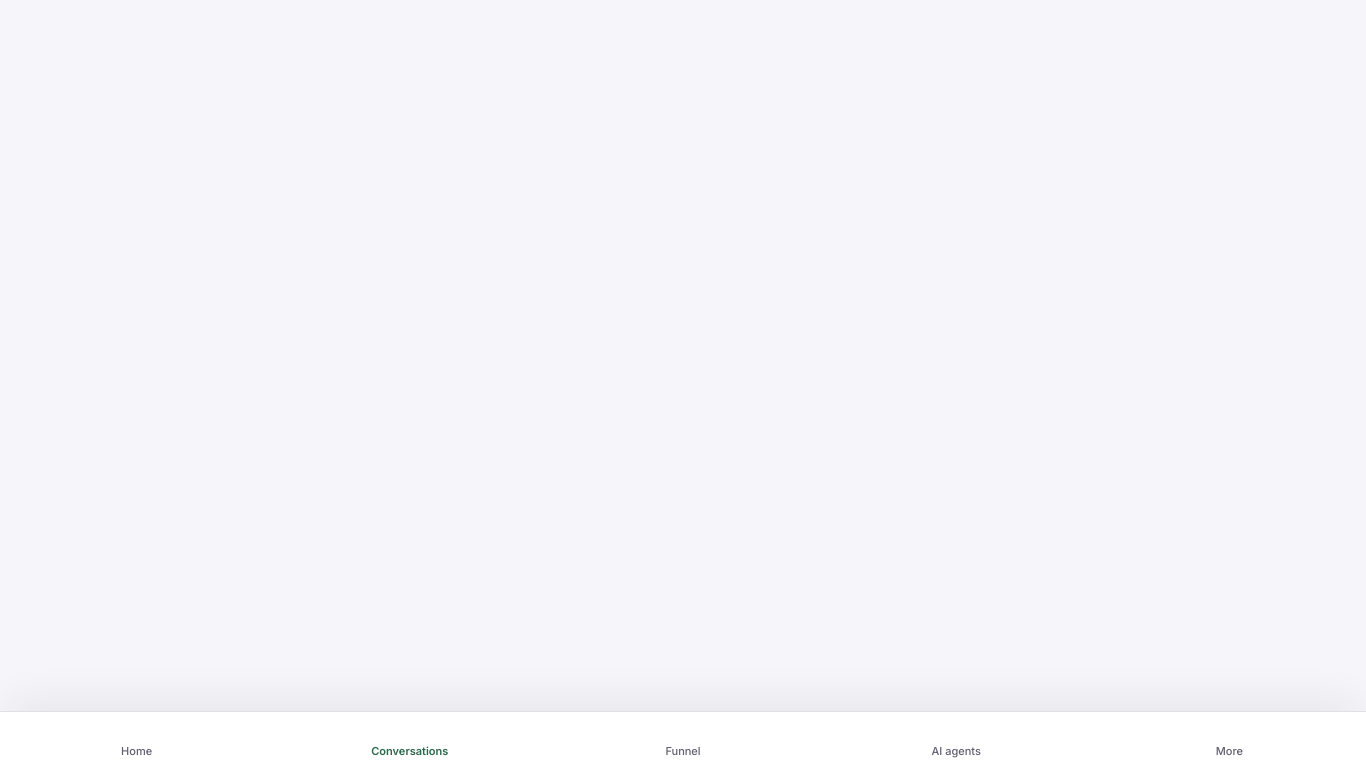
MobileNav › shows the four main tabs, and every section and the booking CTA behind More
Expected: the links read "Home", "Conversations", "Funnel", "AI agents", in this order, [121,744,152,758]; [371,744,448,758]; [665,744,701,758]; [932,744,981,758]
Click the button with aria-label "Open menu": (1229, 751) [1093,712,1365,767]
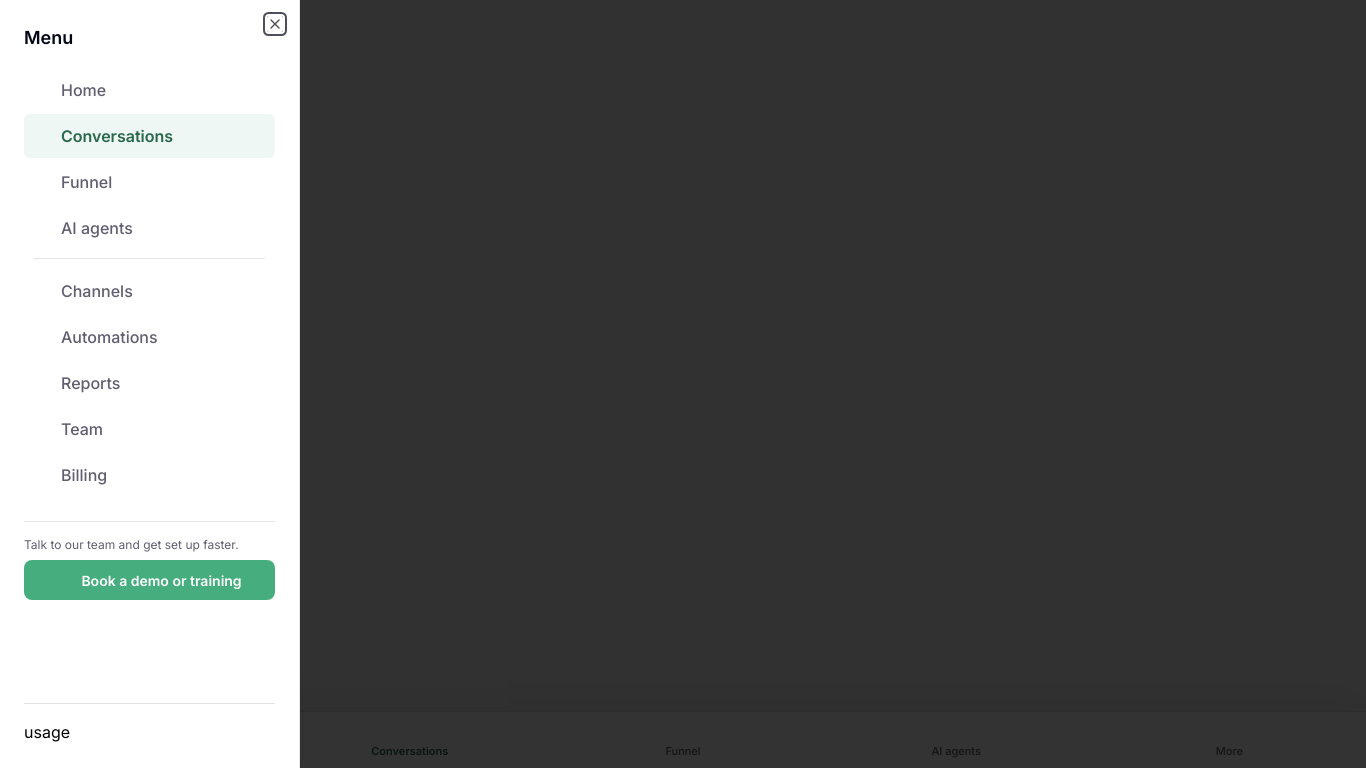
Expected: the text "usage" is shown, [24,722,70,742]
